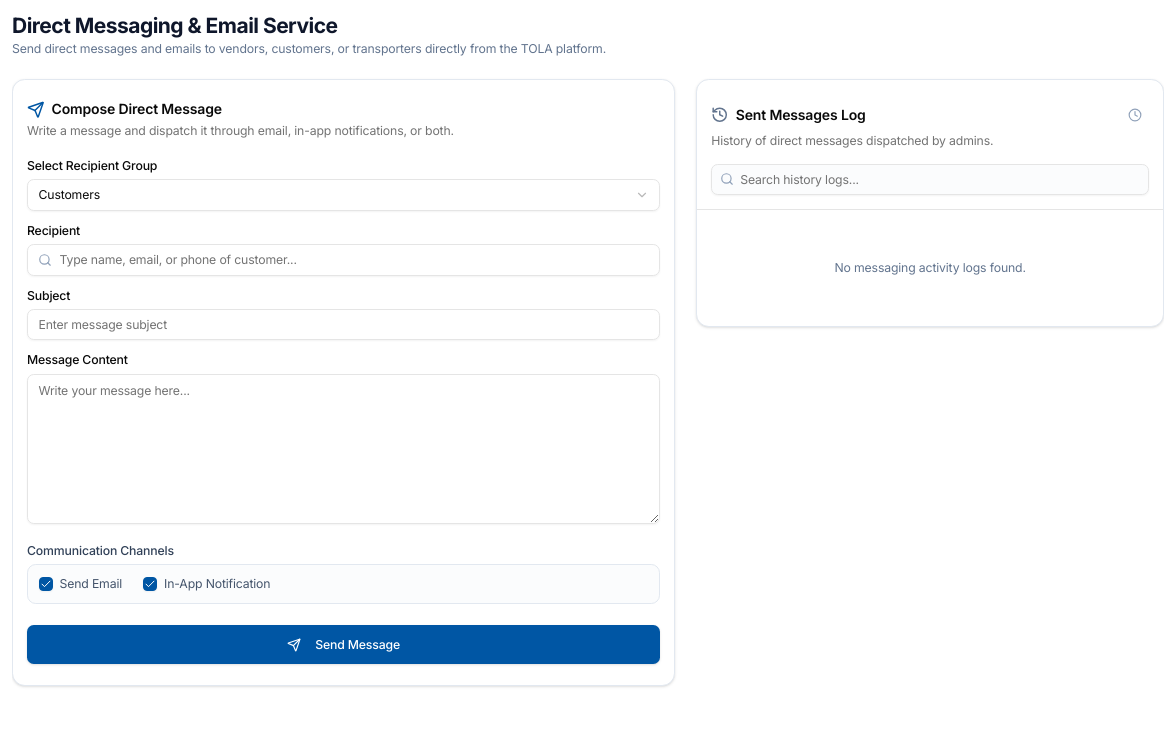
Test: MessagingTab › recipient search › searches the vendor list using the joined user's recipient id
This screenshot has width=1164, height=732.
Expected: the field with placeholder "Type name, email, or phone of customer..." is enabled, [27,244,660,276]
Step 1. Click the dropdown → (69, 195), box [27,179,660,211]
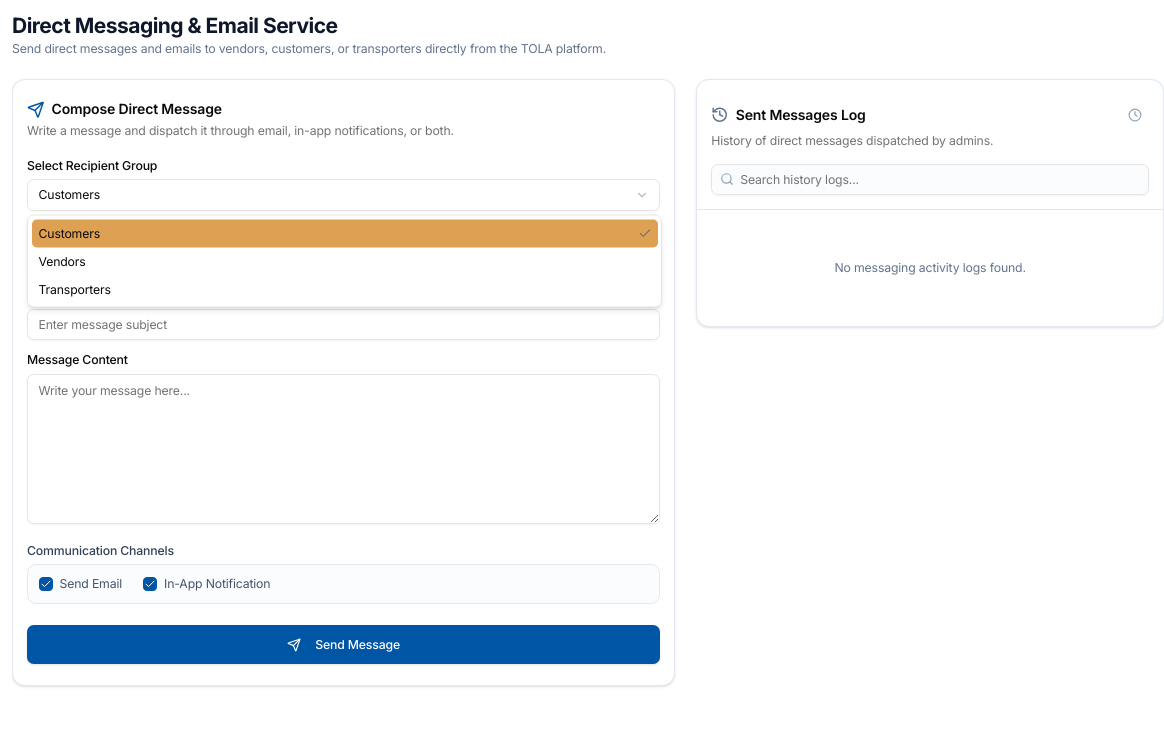
Step 2. Click the option "Vendors" → (62, 261), box [38,253,86,268]
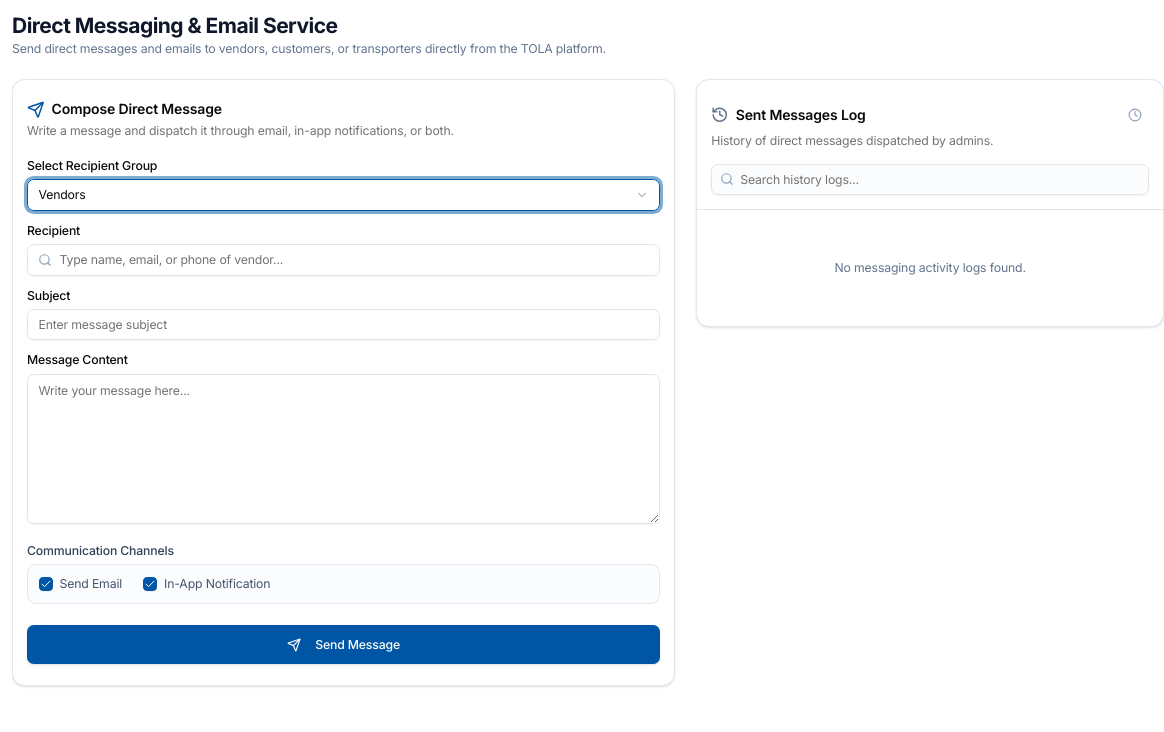
Step 3. Type "dodoma" into the field with placeholder "Type name, email, or phone of vendor..." → (344, 260), box [27,244,660,276]
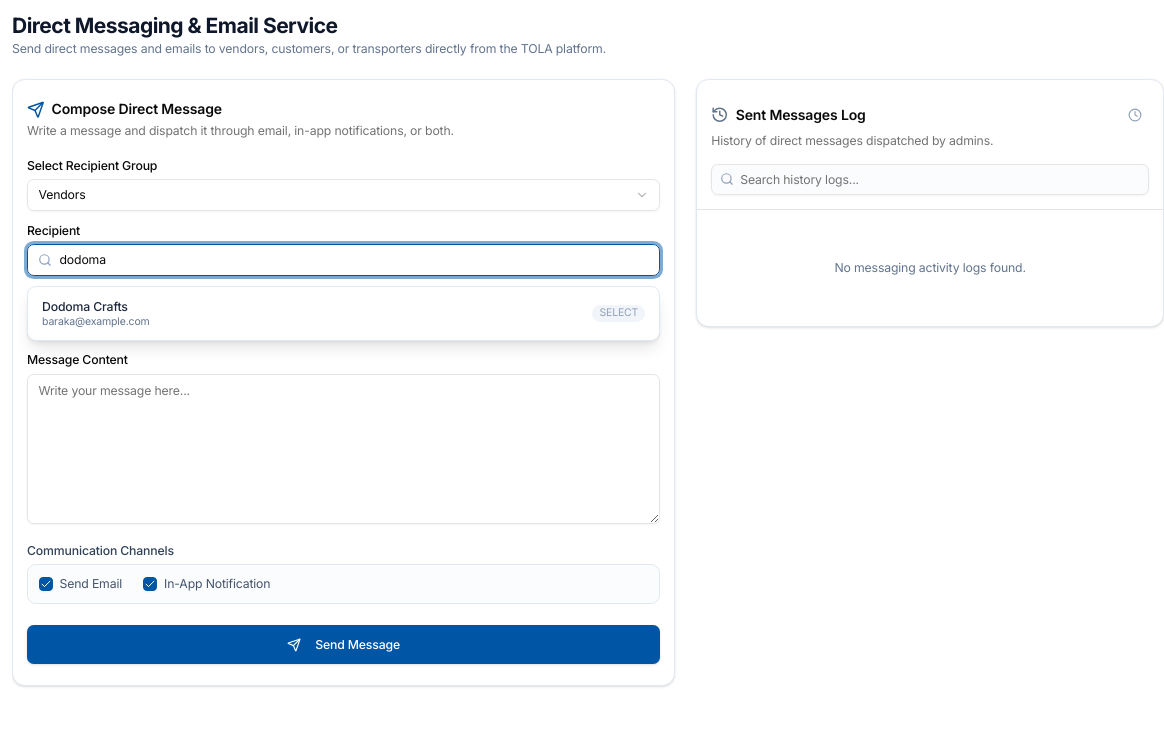
Expected: the text "Dodoma Crafts" is shown, [42,298,128,314]
